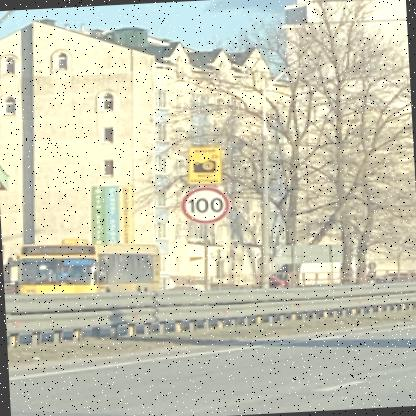speedlimit: (177, 184, 231, 222)
